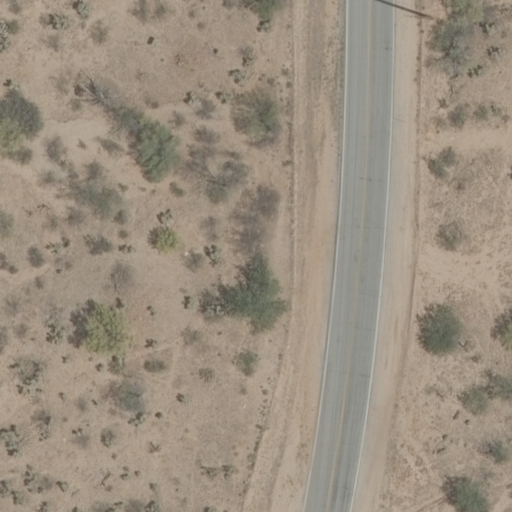DT: (407, 10, 444, 25)
